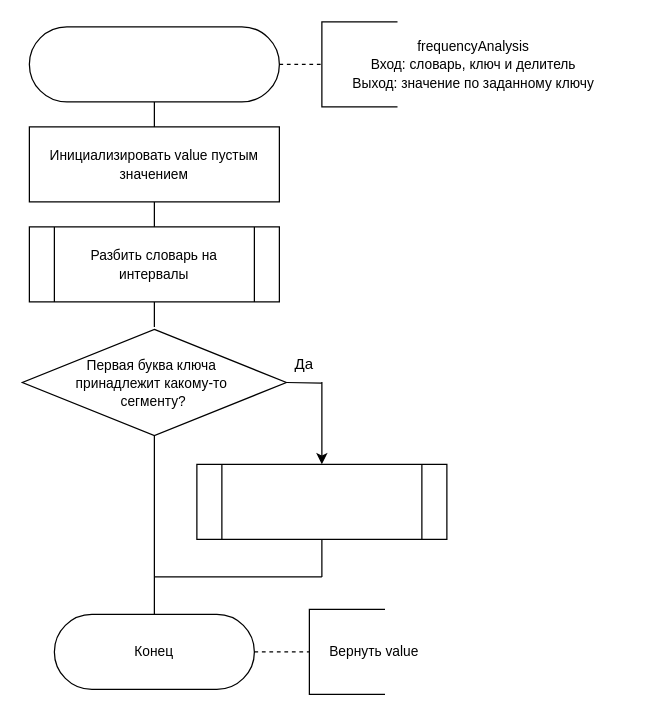
The diagram is 651 pixels wide and 716 high, and some of its shapes have lost their labels. The shapes that lost their labels are listed below. From the top down, each one's box as (x1, y1, x2, y2) in pixels, then its label:
(28, 26, 279, 102): Начало
(196, 463, 447, 539): Произвести двоичный поиск на интервале
